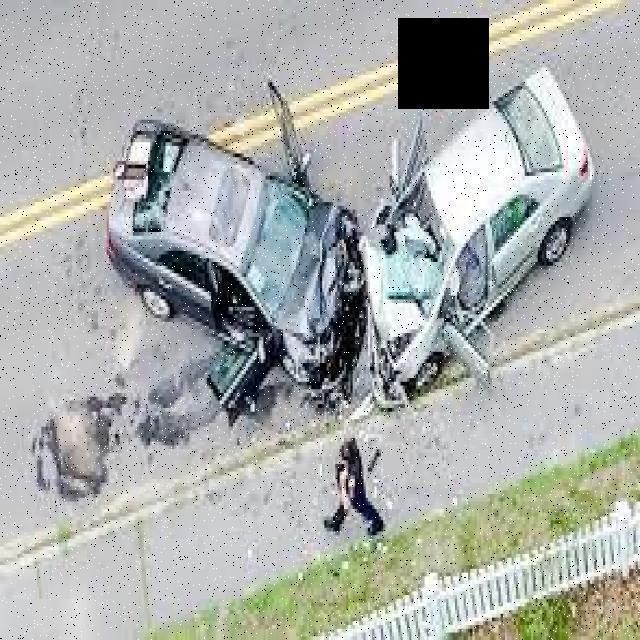accident: (101, 58, 600, 406)
